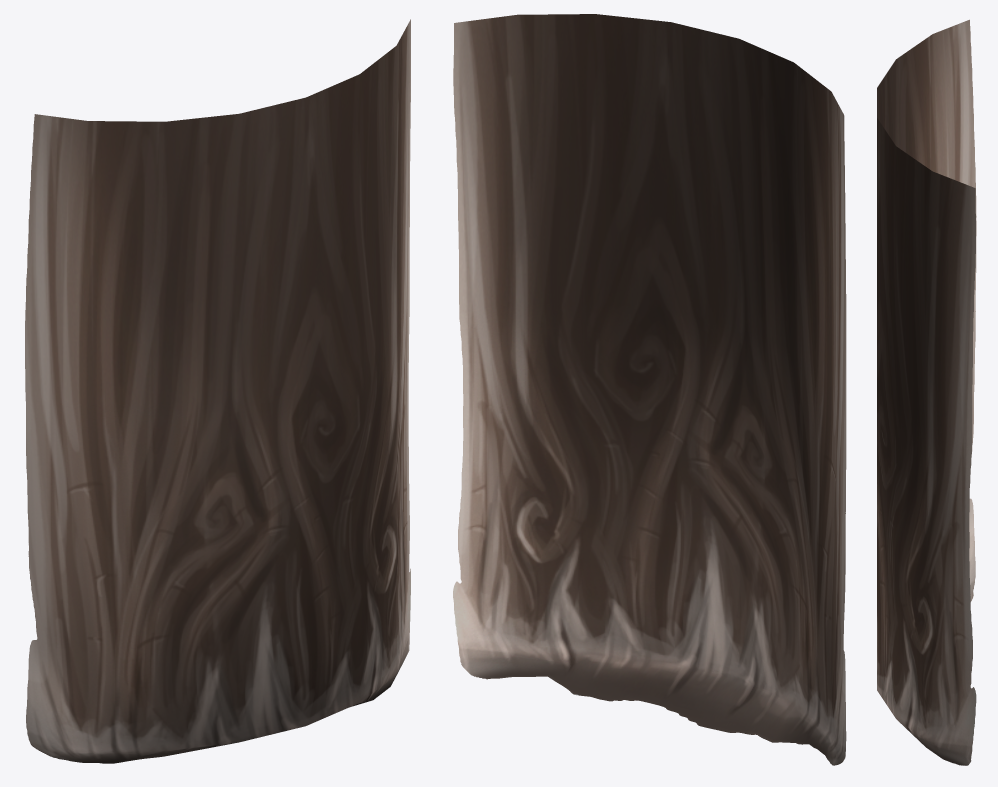
File: Wood Crush.FBX
3 views of the same model, side by side, from view 1: azimuth 30°, elevation 25°; view 2: azimuth 150°, elevation 25°; view 3: azimuth 270°, elevation 25° (orthographic). The views are drawn at different scales.
Parts seen in each view (by area): view 1: Wood Crush; view 2: Wood Crush; view 3: Wood Crush.
Part boxes in pixels (left/top/right/bottom): Wood Crush: left=25, top=19, right=410, bottom=763; Wood Crush: left=453, top=14, right=846, bottom=765; Wood Crush: left=877, top=19, right=976, bottom=765.
Size of the model in its own units: 540 by 138 by 854.
